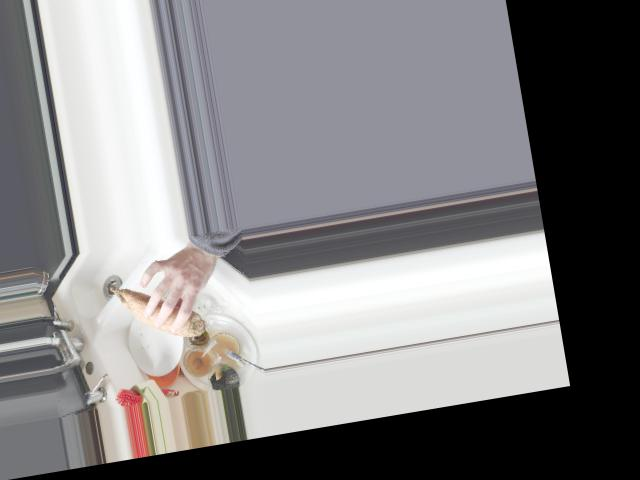sweet_potato: (109, 272, 206, 349)
